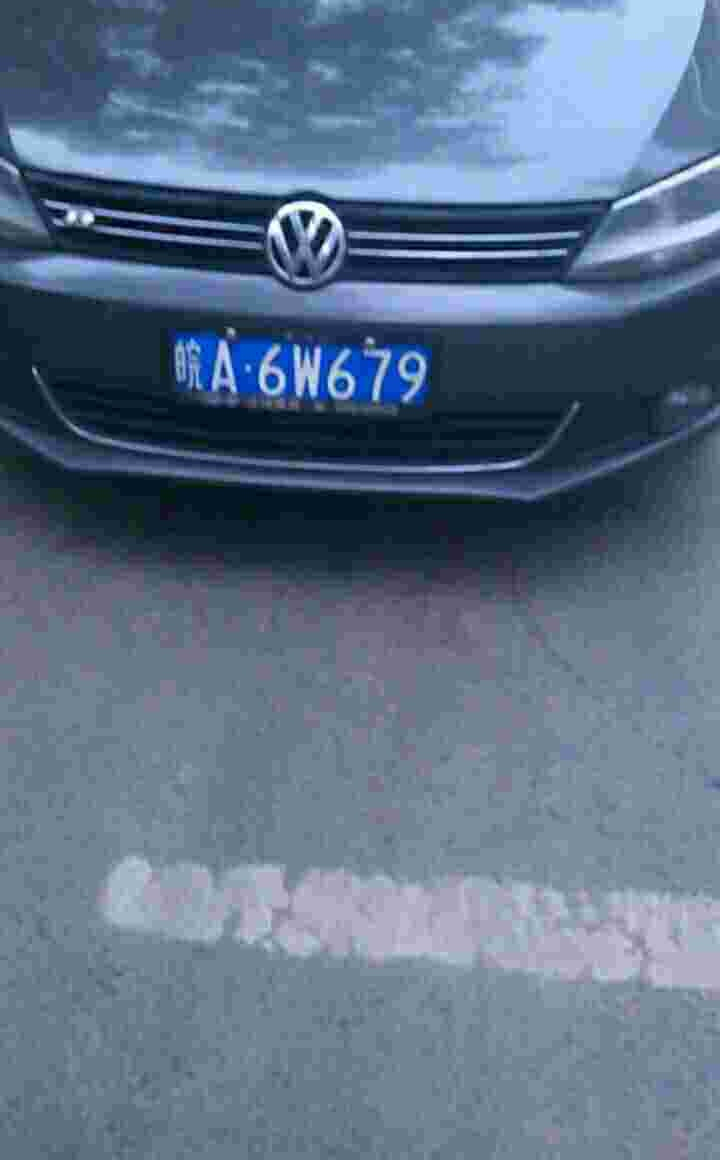license_plate: (169, 326, 438, 409)
